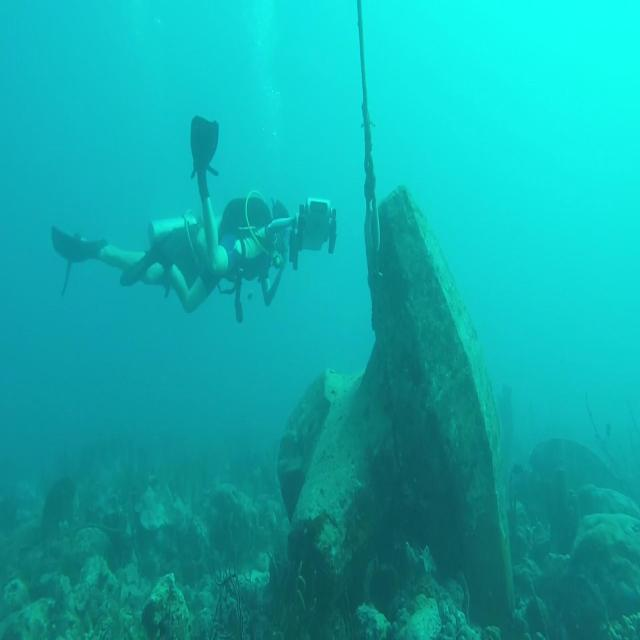human: (51, 114, 337, 323)
